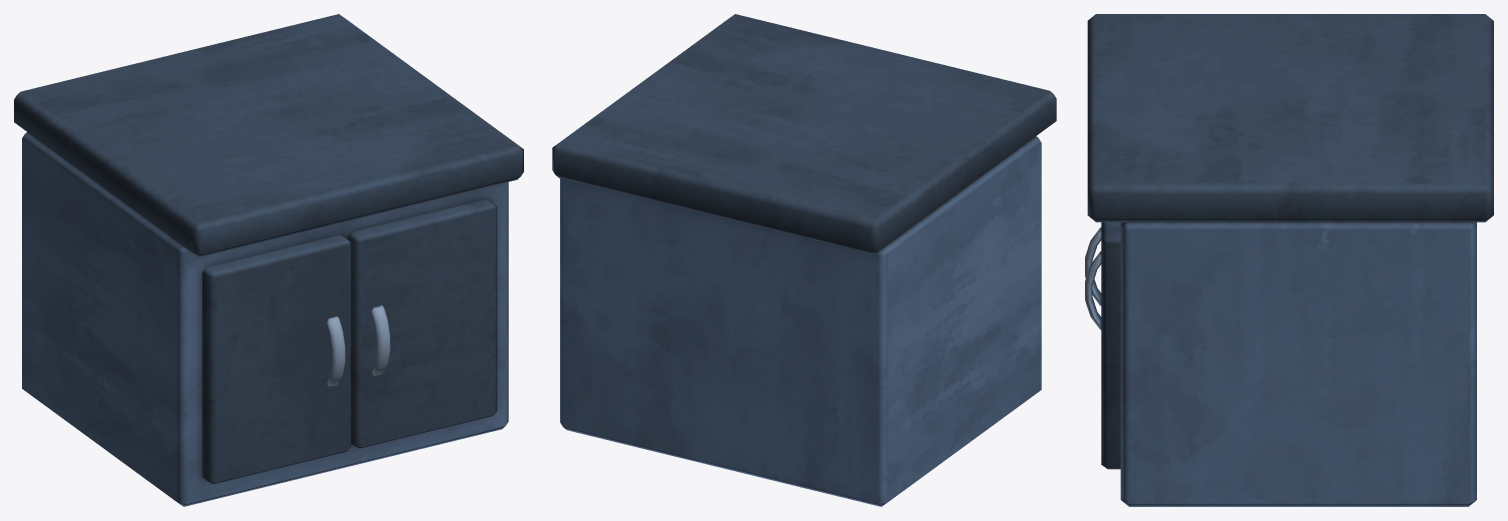
The model's file is DeliveryCounter_Visual.glb.
The picture shows the model from 3 angles, left to right: view 1: azimuth 30°, elevation 25°; view 2: azimuth 150°, elevation 25°; view 3: azimuth 270°, elevation 25°; orthographic projection. The views are drawn at different scales.
Parts seen in each view (by area): view 1: KitchenCounter; view 2: KitchenCounter; view 3: KitchenCounter.
Part boxes in pixels (bbox=[...]): KitchenCounter: bbox=[14, 14, 523, 506]; KitchenCounter: bbox=[552, 14, 1056, 506]; KitchenCounter: bbox=[1085, 14, 1493, 506].
Bounding box in the file's own units: 1.48 × 1.26 × 1.45.
Materials: 1 (1 with a texture image).
